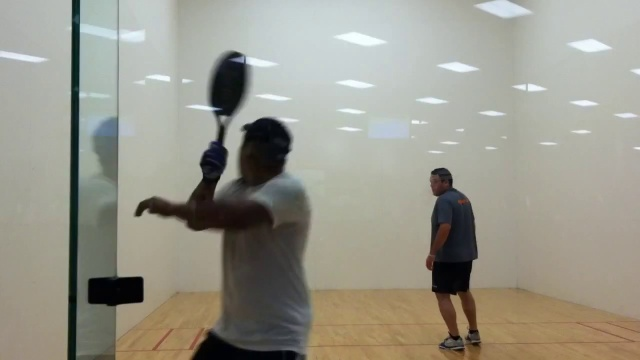person: (126, 115, 319, 355), (421, 161, 481, 357)
